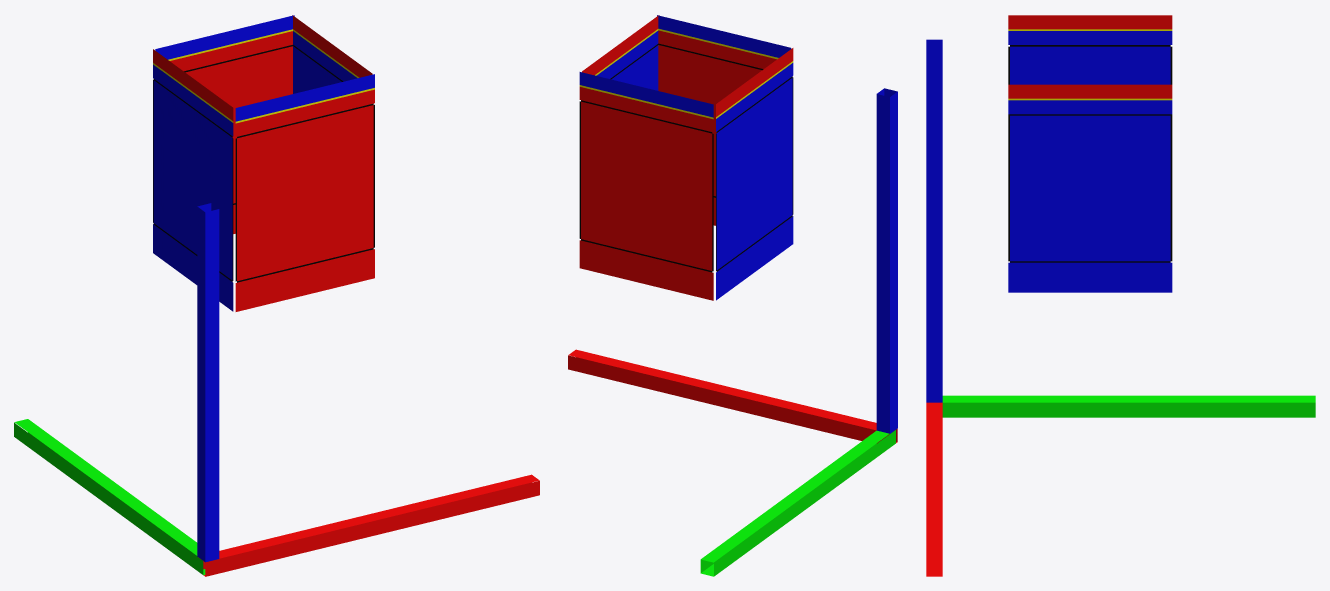
3 views of the same model, side by side, from view 1: azimuth 30°, elevation 25°; view 2: azimuth 150°, elevation 25°; view 3: azimuth 270°, elevation 25° (orthographic). The views are drawn at different scales.
Parts seen in each view (by area): view 1: spider(0, 0, 1):-J, spider(0, 0, 1):-I, axisK:-J, axisI:-J, spider(0, 0, 1):+J, edgeK(0, 0, 0):-J, edgeK(0, 0, 1):-J, edgeJ(0, 0, 1):+J, axisK:-I, axisJ:-I, axisI:+K, axisJ:+K (+4 smaller); view 2: spider(0, 0, 1):+J, spider(0, 0, 1):-I, axisK:+J, axisI:+J, spider(0, 0, 1):-J, edgeJ(0, 0, 0):+J, edgeJ(0, 0, 1):+J, edgeK(0, 0, 1):-J, axisK:-I, axisJ:-I, axisI:+K, axisJ:+K (+4 smaller); view 3: spider(0, 0, 1):+I, spider(0, 0, 1):-I, axisK:+I, axisJ:+I, edgeJ(0, 0, 0):+I, edgeJ(0, 0, 1):+I, edgeJ(0, 0, 1):-I, axisJ:+K, axisI:+K.
Boxes of the visible parts, <box> form: spider(0, 0, 1):-J: <box>235,103,374,282</box>; spider(0, 0, 1):-I: <box>153,79,233,281</box>; axisK:-J: <box>205,209,219,562</box>; axisI:-J: <box>205,480,539,576</box>; spider(0, 0, 1):+J: <box>184,45,292,204</box>; edgeK(0, 0, 0):-J: <box>235,249,374,311</box>; edgeK(0, 0, 1):-J: <box>235,74,374,136</box>; edgeJ(0, 0, 1):+J: <box>155,15,294,71</box>; axisK:-I: <box>197,207,205,561</box>; axisJ:-I: <box>14,422,203,574</box>; axisI:+K: <box>219,474,539,558</box>; axisJ:+K: <box>14,419,197,555</box>; spider(0, 0, 1):+J: <box>579,100,713,272</box>; spider(0, 0, 1):-I: <box>716,76,793,271</box>; axisK:+J: <box>876,94,889,433</box>; axisI:+J: <box>568,355,889,443</box>; spider(0, 0, 1):-J: <box>658,43,763,197</box>; edgeJ(0, 0, 0):+J: <box>579,240,713,300</box>; edgeJ(0, 0, 1):+J: <box>579,72,713,132</box>; edgeK(0, 0, 1):-J: <box>657,15,791,68</box>; axisK:-I: <box>890,91,897,433</box>; axisJ:-I: <box>714,430,895,576</box>; axisI:+K: <box>568,349,876,430</box>; axisJ:+K: <box>701,430,889,562</box>; spider(0, 0, 1):+I: <box>1008,114,1172,262</box>; spider(0, 0, 1):-I: <box>1008,45,1172,115</box>; axisK:+I: <box>926,46,942,402</box>; axisJ:+I: <box>942,403,1315,417</box>; edgeJ(0, 0, 0):+I: <box>1008,262,1172,292</box>; edgeJ(0, 0, 1):+I: <box>1008,84,1172,114</box>; edgeJ(0, 0, 1):-I: <box>1008,15,1172,44</box>; axisJ:+K: <box>942,395,1315,402</box>; axisI:+K: <box>926,402,942,561</box>.
Bounding box in the file's own units: 2.4 × 2.9 × 2.38.
